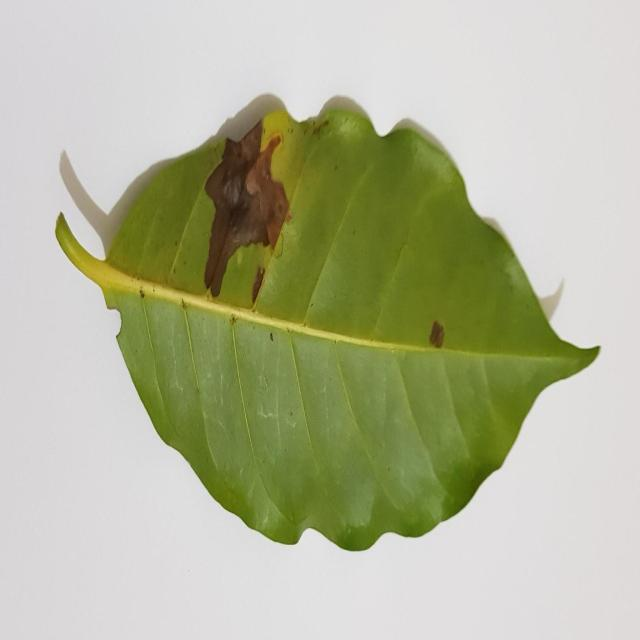miner: (204, 118, 291, 310), (429, 321, 444, 348)
